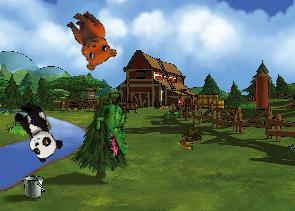bear: (54, 5, 123, 75)
crocodile: (82, 92, 144, 161)
panda: (7, 97, 66, 164)
